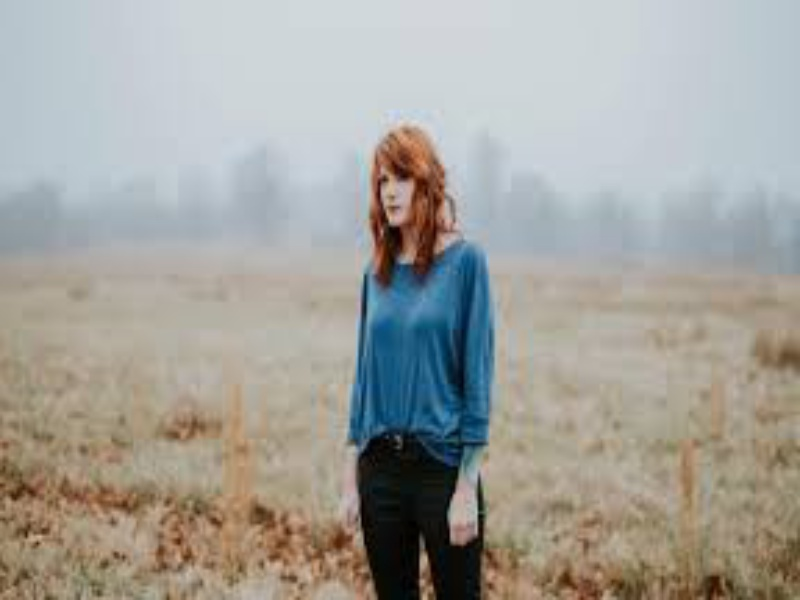TsisyArotava: (359, 133, 451, 250)
